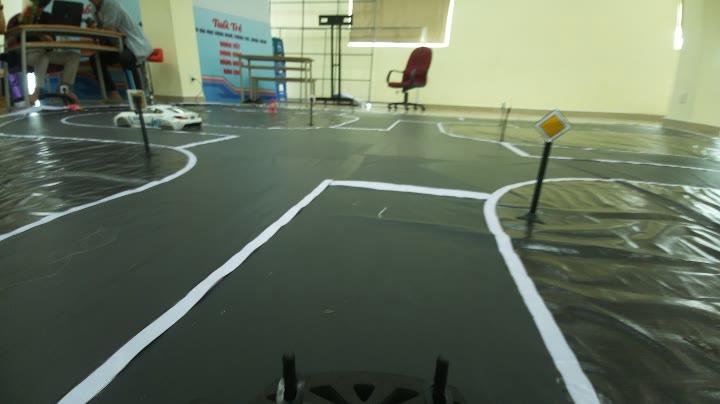priority: (530, 108, 578, 154)
